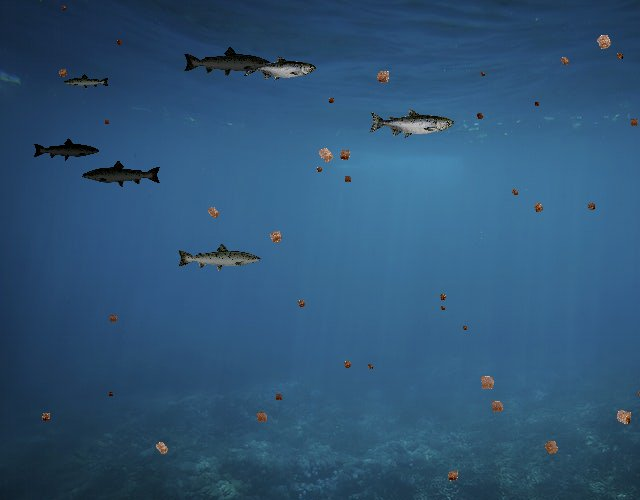Fish: (183, 45, 273, 78), (176, 242, 262, 273), (368, 108, 454, 139), (82, 160, 163, 189), (243, 55, 316, 82), (32, 138, 100, 162), (64, 74, 111, 91)
Pellet: (310, 140, 340, 169), (473, 368, 501, 396), (485, 395, 509, 419), (201, 200, 225, 224), (528, 197, 548, 217), (313, 163, 326, 176), (460, 322, 470, 332)
